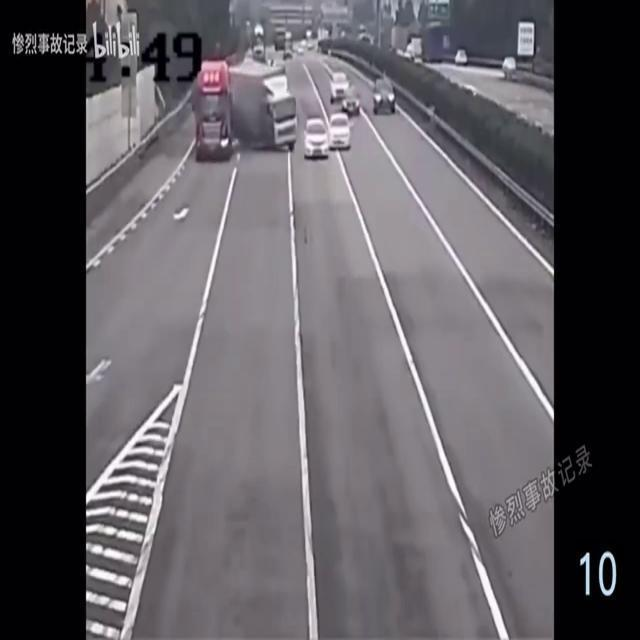accident: (192, 60, 298, 160)
non-accident: (329, 72, 396, 118), (304, 111, 351, 161)
